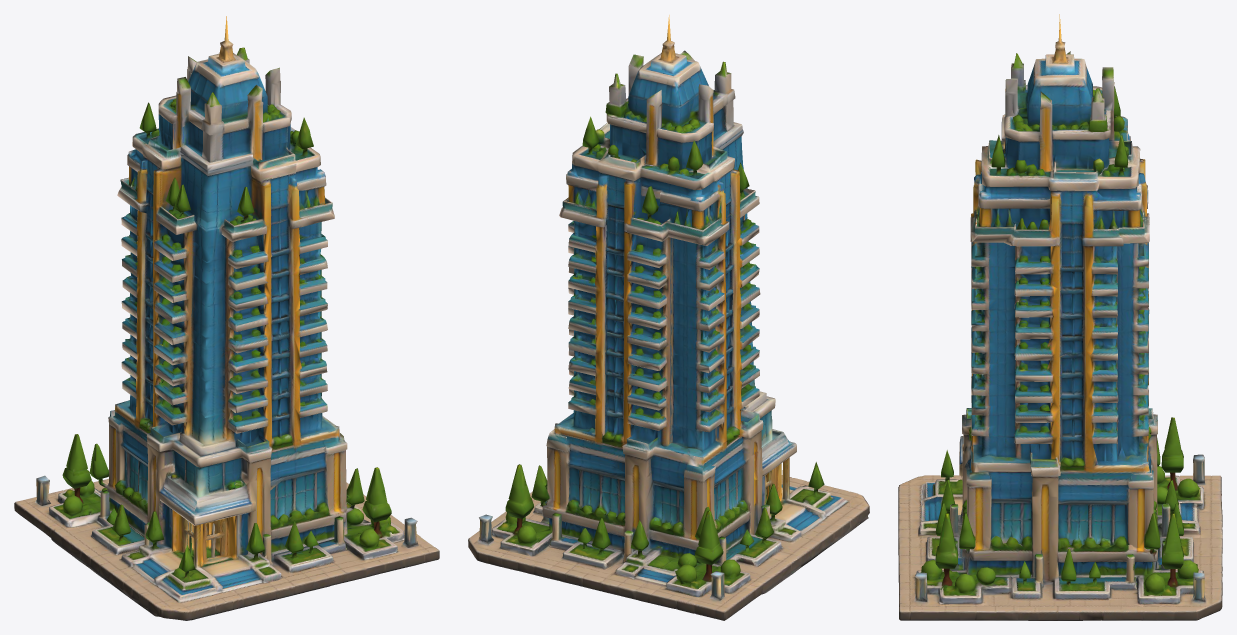
Rendered from residential_tower_stage3.glb.
The picture shows the model from 3 angles, left to right: view 1: azimuth 30°, elevation 25°; view 2: azimuth 150°, elevation 25°; view 3: azimuth 270°, elevation 25°; orthographic projection. The views are drawn at different scales.
Visible parts, largest first — view 1: tripo_node_f477d0eb-278e-4984-b35a-3638d796afcc; view 2: tripo_node_f477d0eb-278e-4984-b35a-3638d796afcc; view 3: tripo_node_f477d0eb-278e-4984-b35a-3638d796afcc.
Boxes of the visible parts, x1=… form: tripo_node_f477d0eb-278e-4984-b35a-3638d796afcc: x1=14, y1=16, x2=439, y2=620; tripo_node_f477d0eb-278e-4984-b35a-3638d796afcc: x1=468, y1=15, x2=869, y2=620; tripo_node_f477d0eb-278e-4984-b35a-3638d796afcc: x1=898, y1=14, x2=1222, y2=620.
Bounding box in the file's own units: 0.547 × 1 × 0.5456.
Materials: 1 (1 with a texture image).
